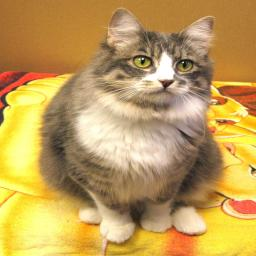catnose: (157, 78, 175, 90)
